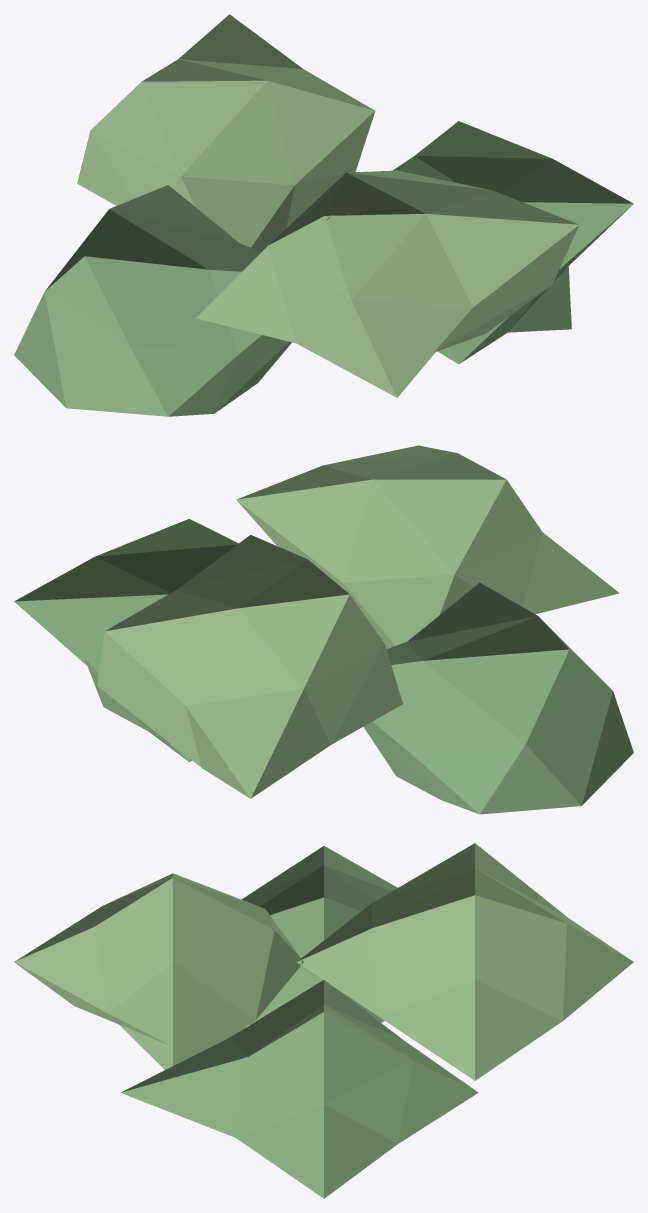
Rendered from shrub_v29.glb.
3 views of the same model, one above another, from view 1: azimuth 30°, elevation 25°; view 2: azimuth 150°, elevation 25°; view 3: azimuth 270°, elevation 25° (orthographic). The views are drawn at different scales.
Parts seen in each view (by area): view 1: lod0; view 2: lod0; view 3: lod0.
Boxes of the visible parts, x1=… form: lod0: x1=14, y1=14, x2=633, y2=416; lod0: x1=14, y1=445, x2=633, y2=814; lod0: x1=14, y1=843, x2=633, y2=1198.
Size of what is drawn, in the model's own units: 1.75 by 0.8747 by 1.68.
